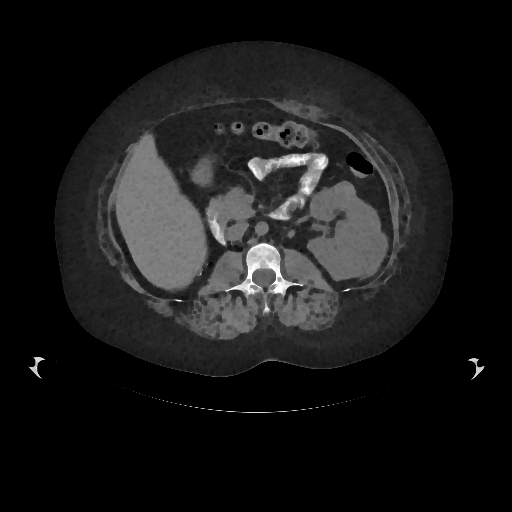Lesion: (338, 217, 389, 283)
